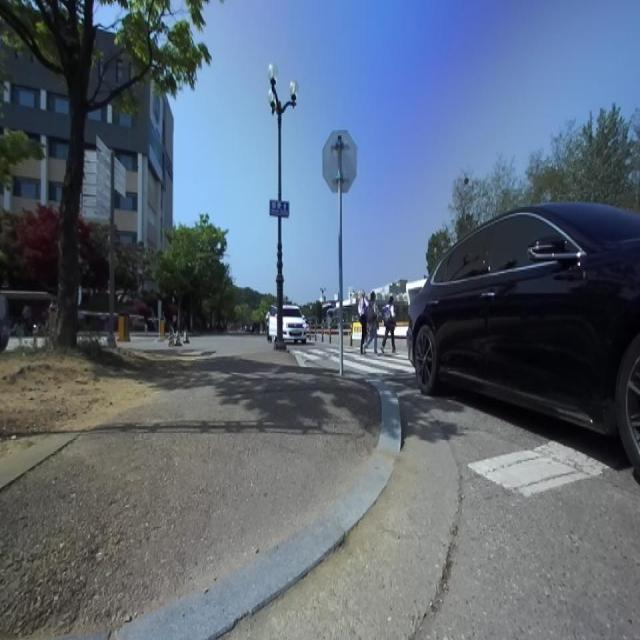sidewalk: (0, 353, 381, 638), (116, 379, 402, 640)
